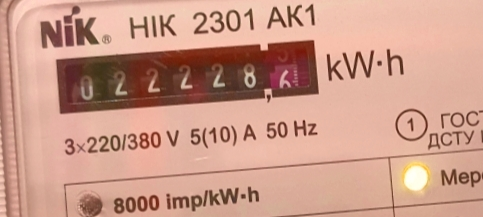0: (76, 72, 94, 101)
2: (109, 67, 130, 98), (208, 60, 227, 90), (175, 62, 194, 90), (143, 65, 161, 94)
5: (273, 43, 290, 64)
6: (275, 66, 293, 88)
8: (240, 60, 257, 89)
screen: (46, 26, 328, 123)
